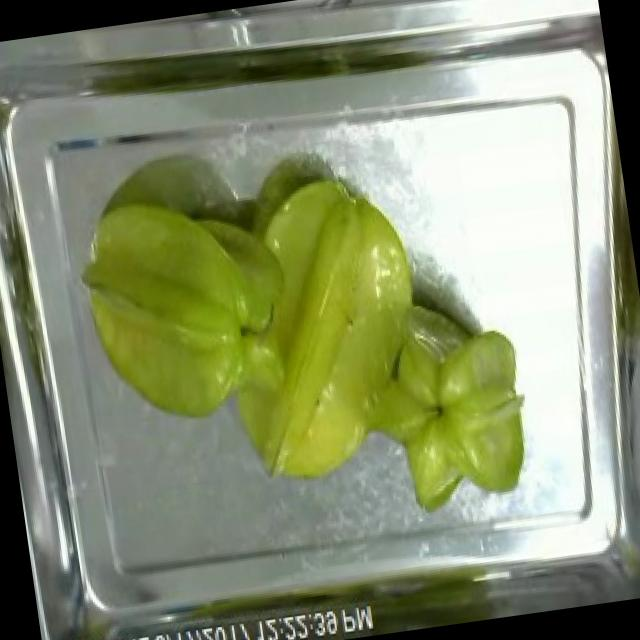fruit: (181, 146, 466, 504), (61, 177, 267, 442), (377, 300, 550, 526)
